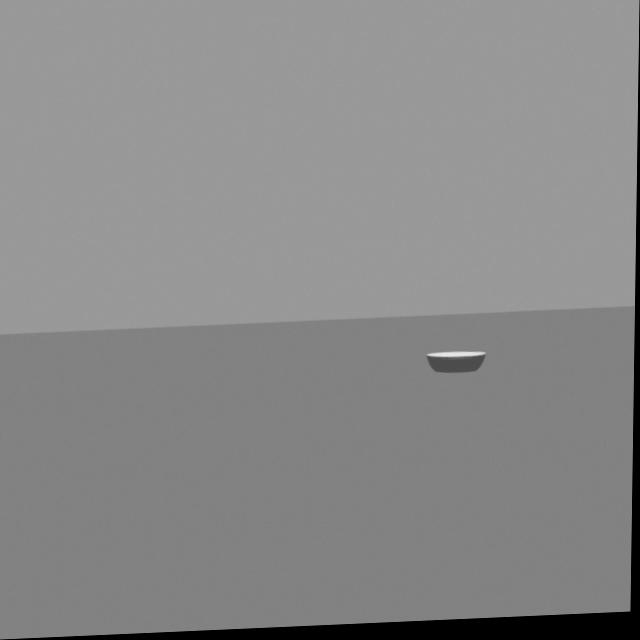bowl: (423, 335, 494, 393)
